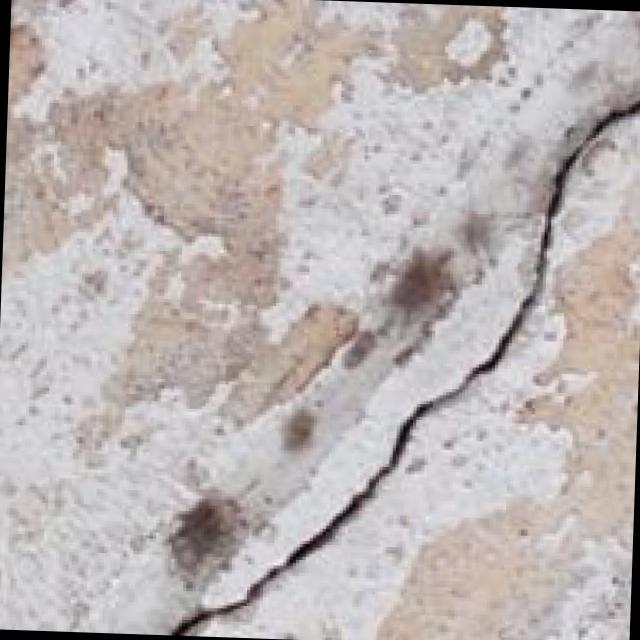crack: (181, 69, 640, 640)
